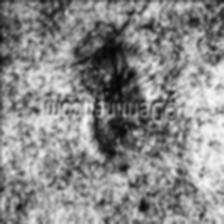Potentially Malignant Skin Tumors: (83, 46, 150, 164)
